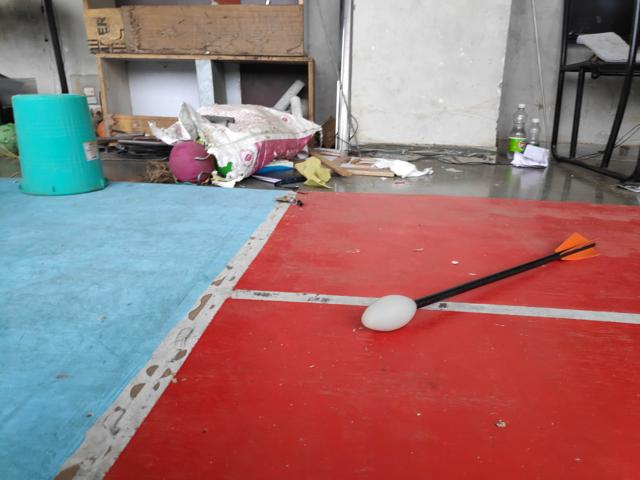Head: (359, 291, 422, 332)
Tail: (553, 227, 603, 264)
